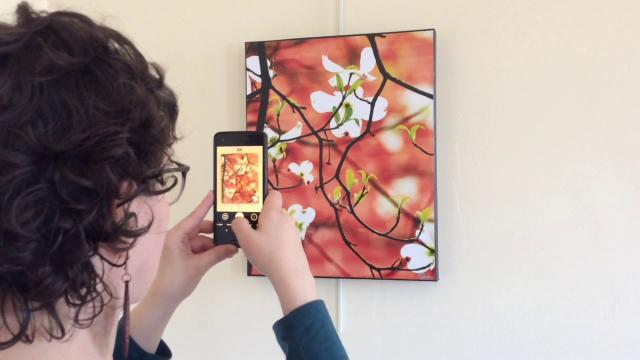art: (276, 36, 440, 282)
pointing: (204, 126, 272, 254)
